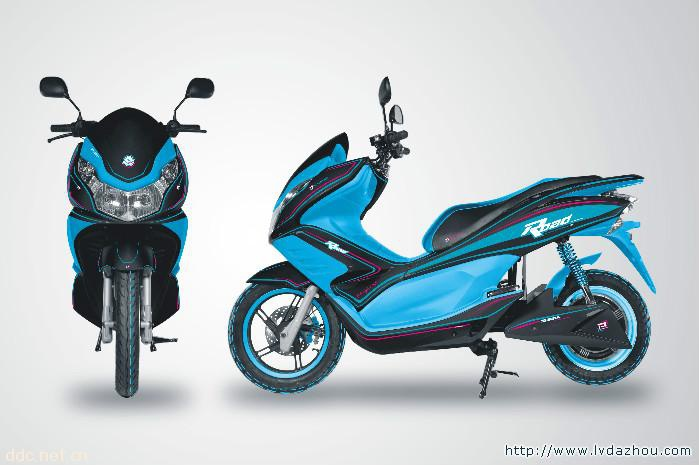non-vehicle: (226, 76, 654, 399), (36, 72, 217, 399)
